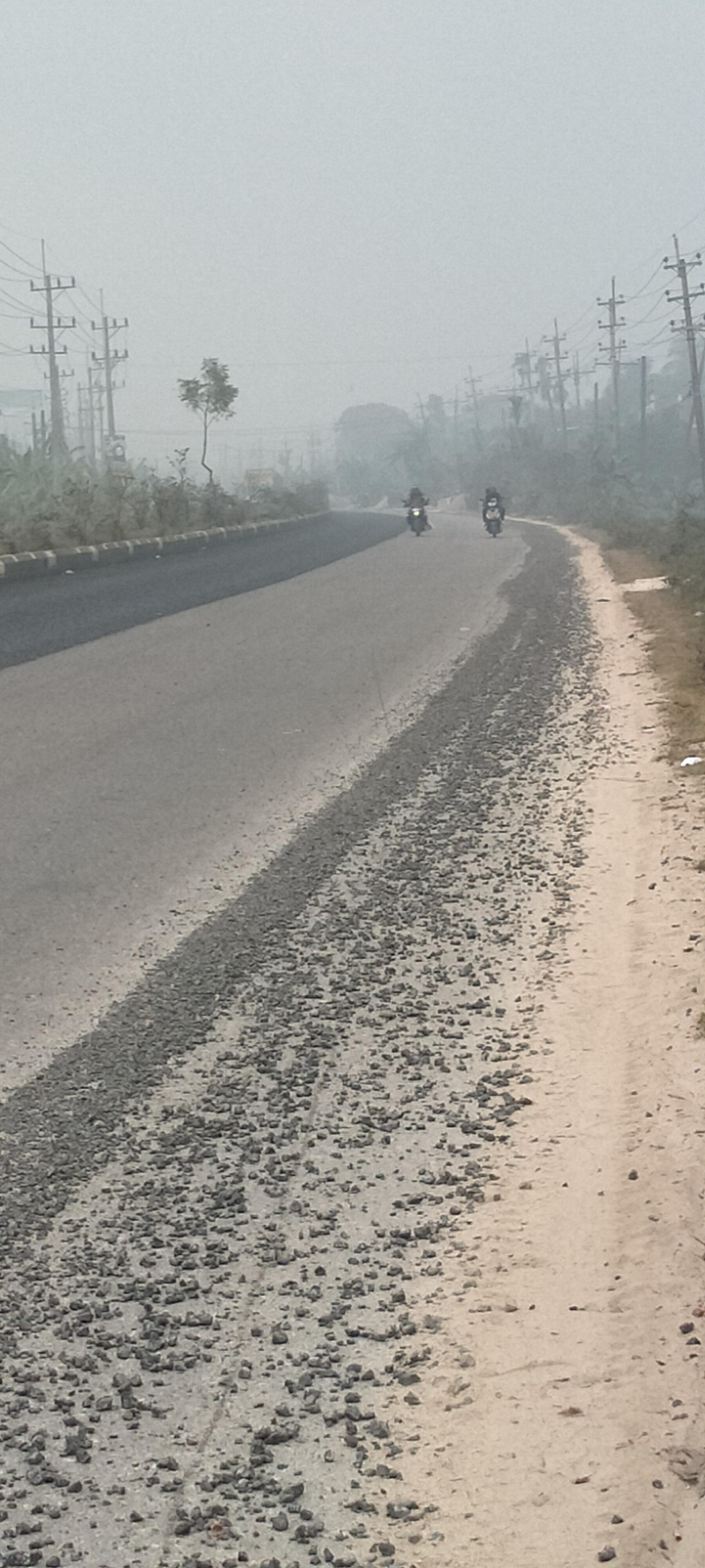Bike: (466, 470, 519, 559), (393, 482, 442, 545)
